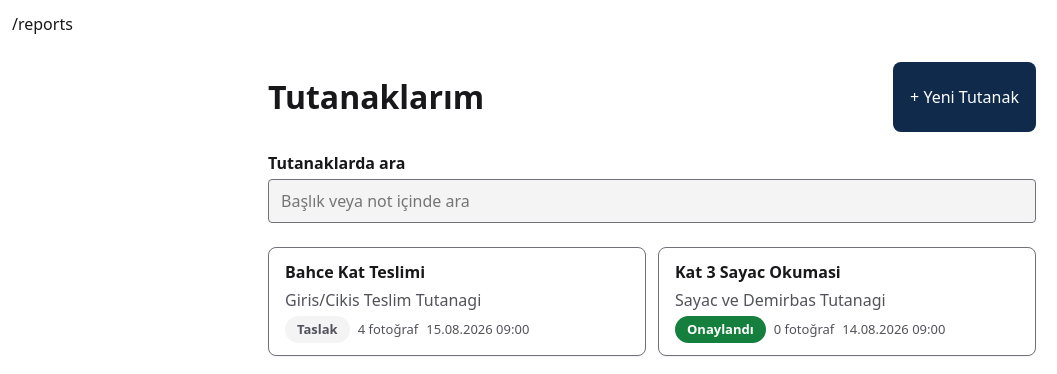
Test: ReportListPage › bos durum — arama sonucu yok (kriter 4) › aranan terimi iceren bos durum mesajini gosterir
Expected: the list named "Tutanaklar" is shown, top-left (268, 247), bottom-right (1036, 356)
Type "zzz" into the search field labelled "Tutanaklarda ara" at coordinates (652, 201), box top-left (268, 179), bottom-right (1036, 223)
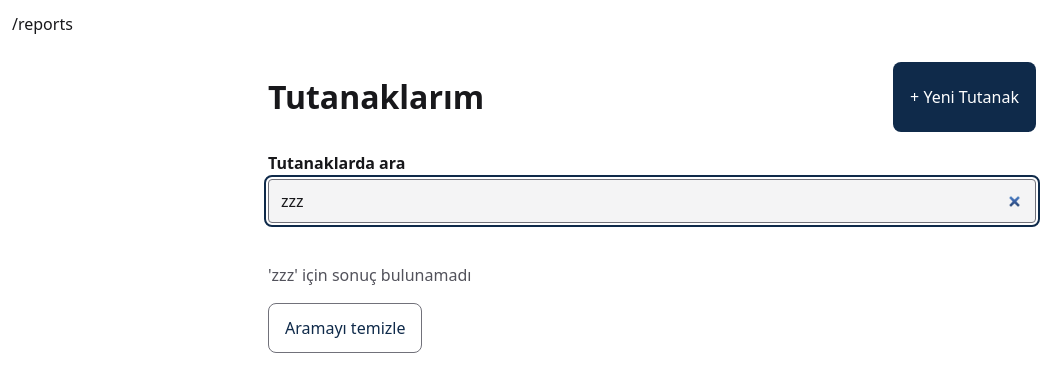
Expected: the text "'zzz' için sonuç bulunamadı" is shown, top-left (268, 264), bottom-right (471, 286)
